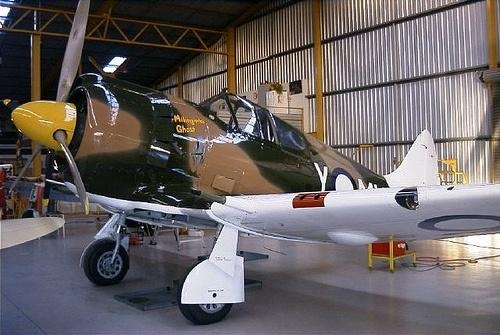aeroplane: (2, 2, 500, 327)
